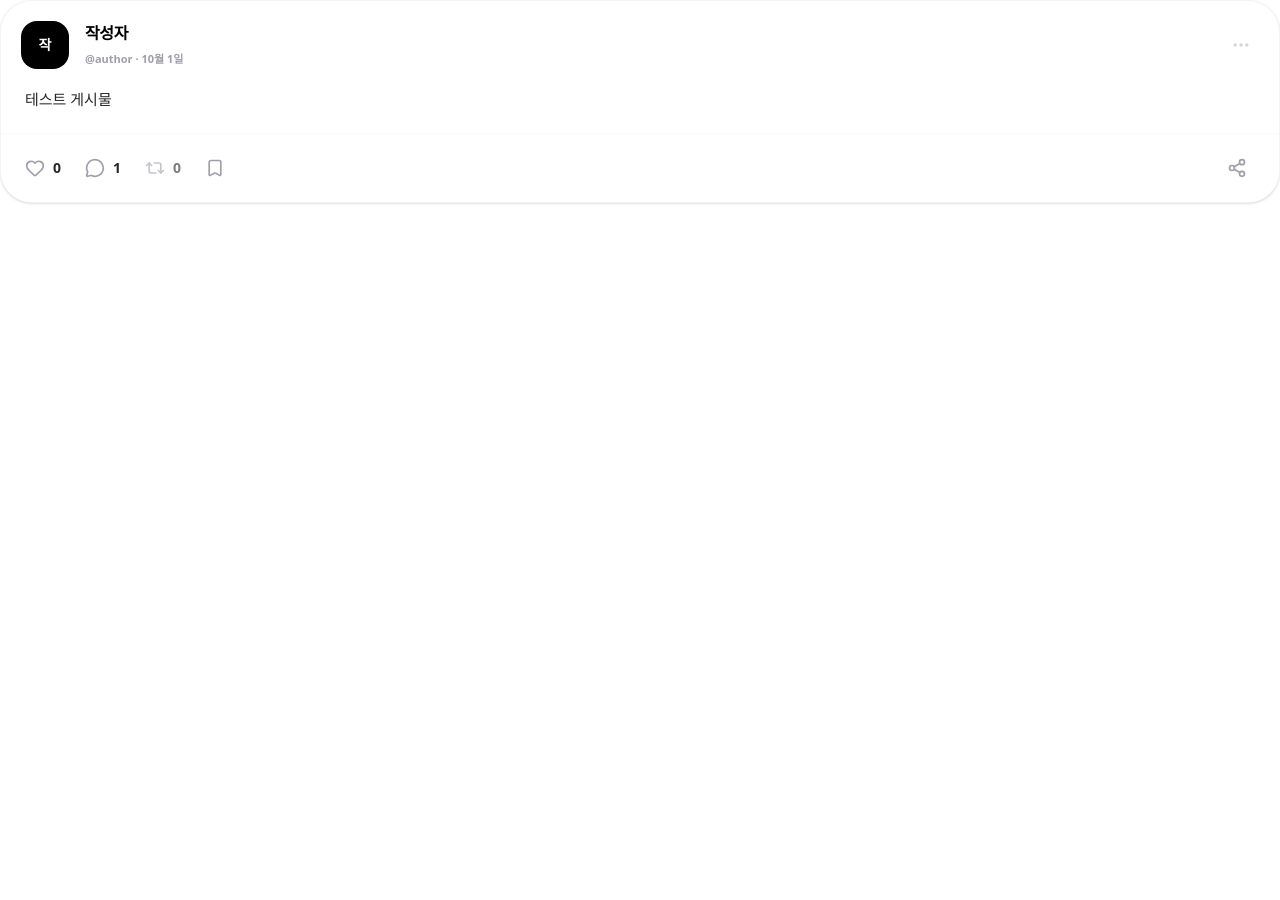
Test case: 게시물 카드 확인창 › 취소 시 요청하지 않고 닫힌 메뉴의 트리거로 포커스를 복원한다
Click the button named "게시물 메뉴": [1241, 45] box x1=1223 y1=27 x2=1259 y2=63
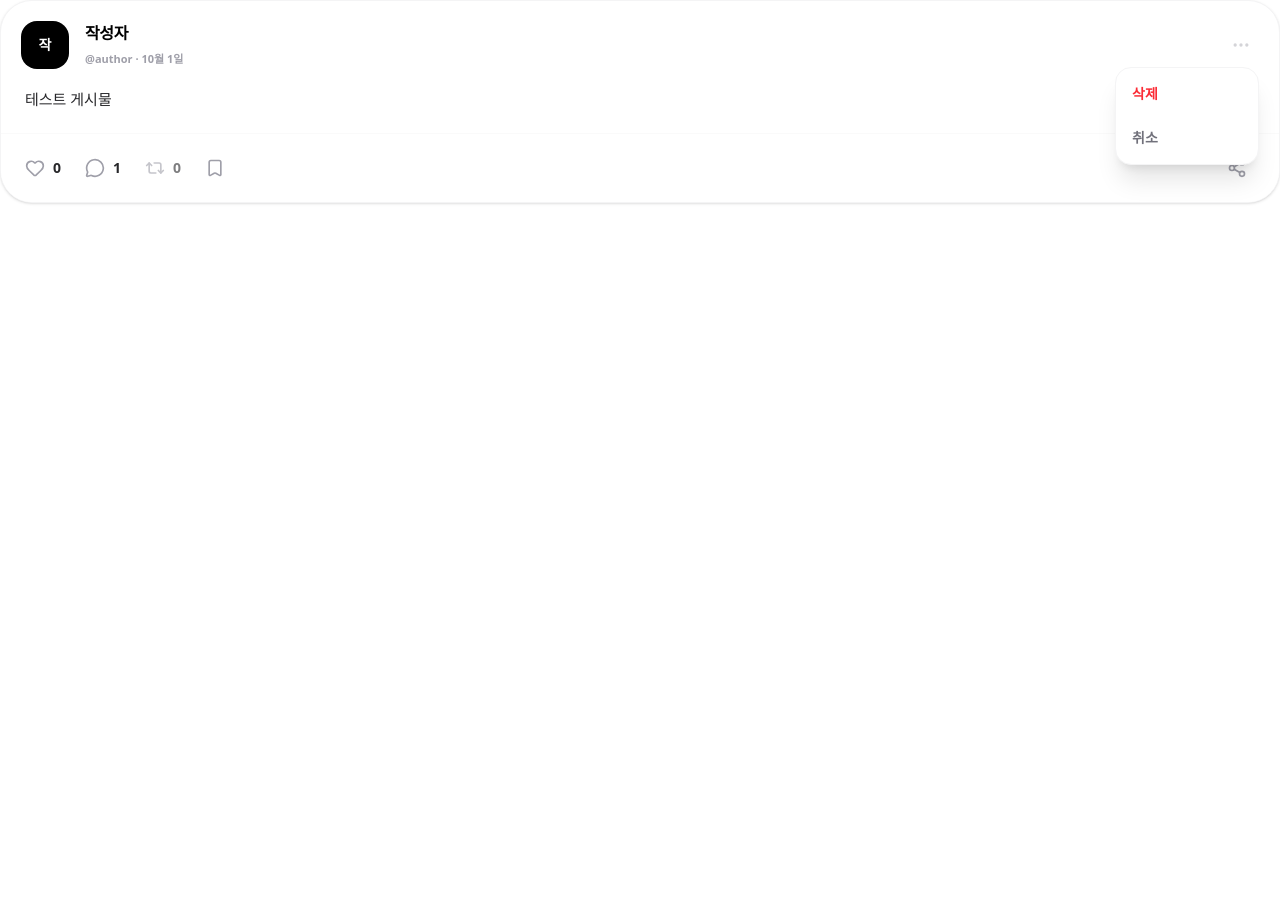
Click the button "삭제": [1187, 94] box x1=1116 y1=72 x2=1258 y2=116
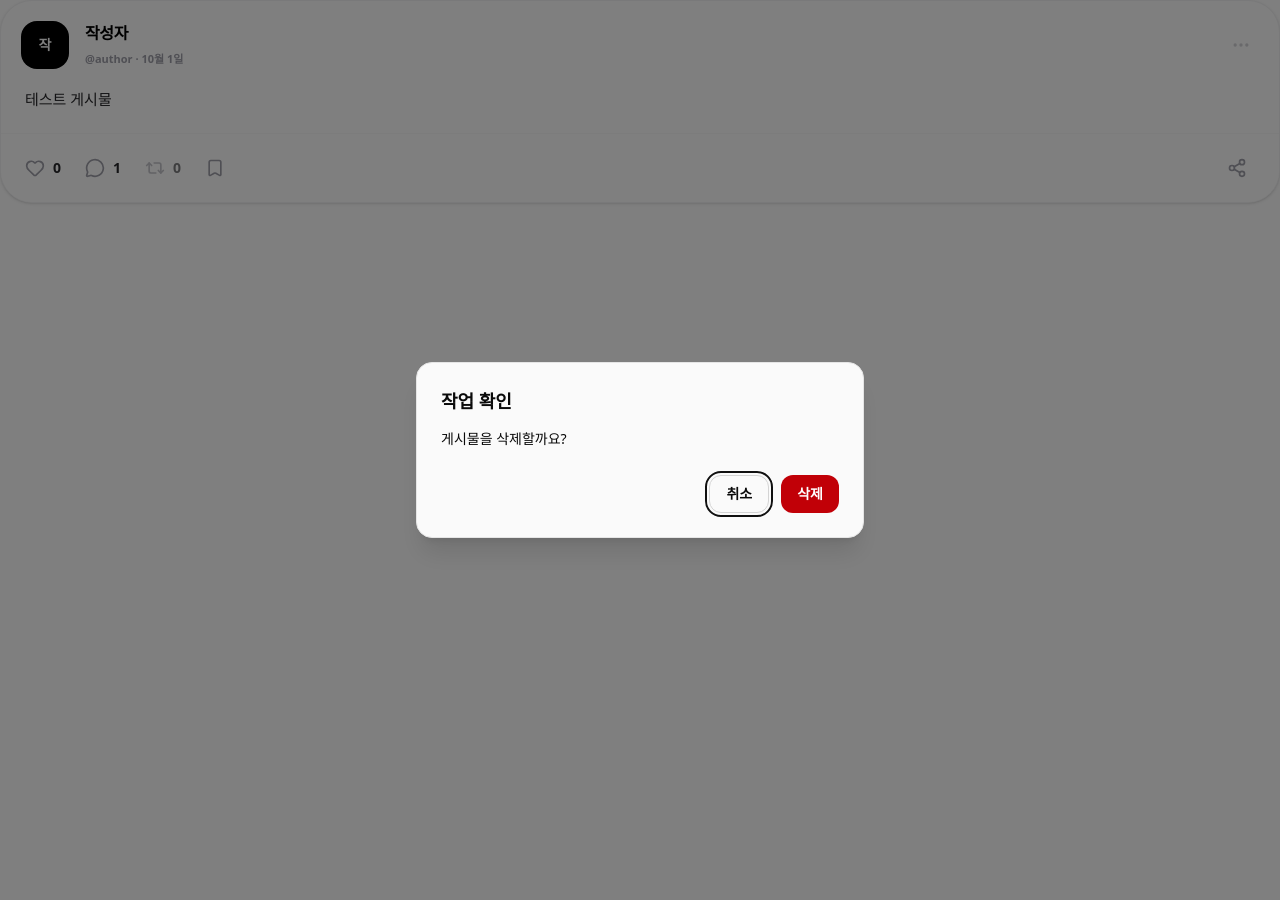
Click the button "취소": [739, 494] box x1=710 y1=475 x2=769 y2=513
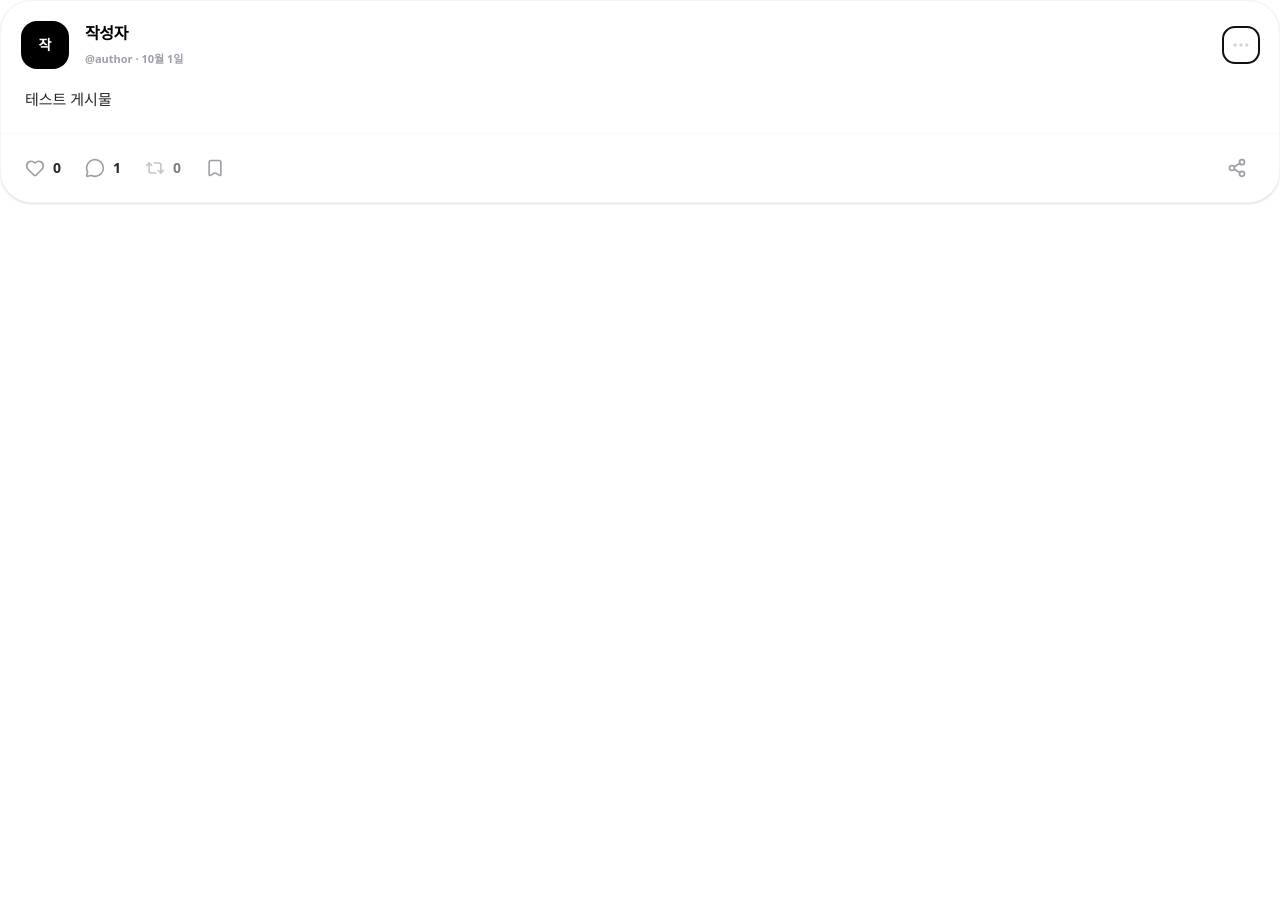
Expected: the button named "게시물 메뉴" is collapsed, x1=1223 y1=27 x2=1259 y2=63
Expected: the dialog is gone
